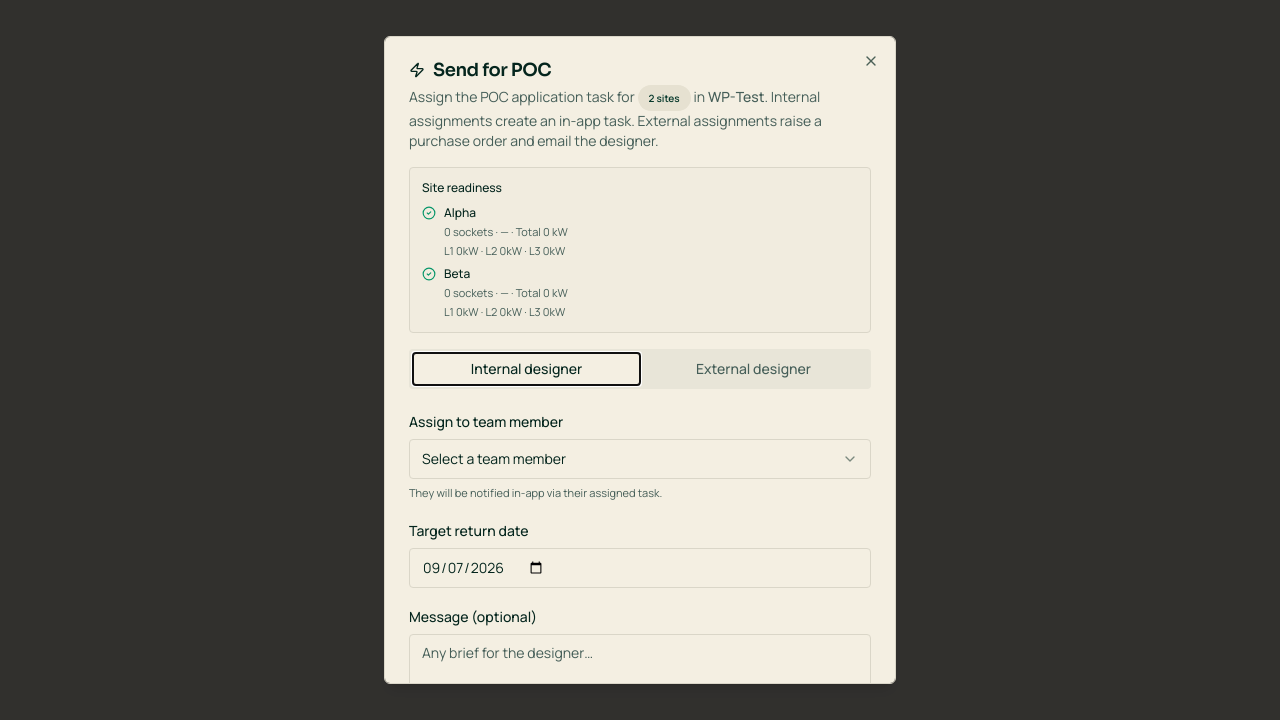
Test: SendForPocDialog › rejects zero/negative fee and blocks proceeding
The image size is (1280, 720).
Click the tab "External designer" at point(754, 369), box [640,353,867,385]
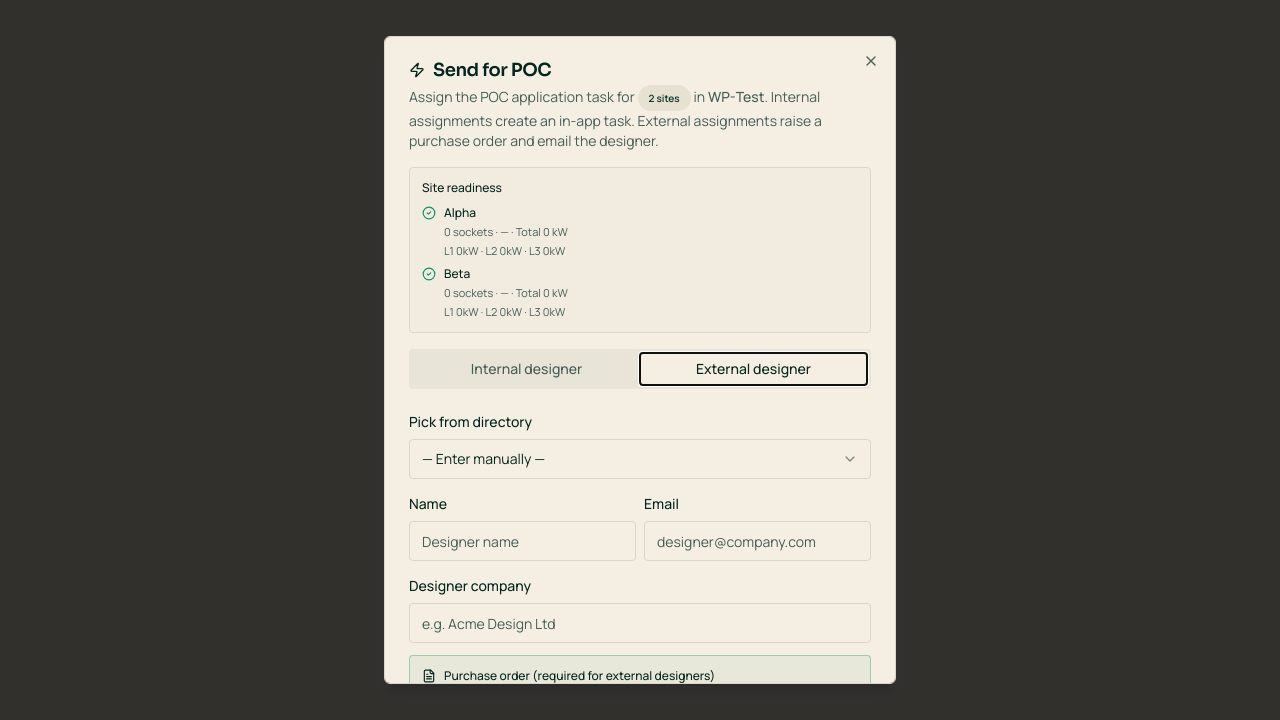
Type "d@x.com" into the field with placeholder "designer@company.com" at point(758, 541), box [644,521,871,561]
(page scrolled)
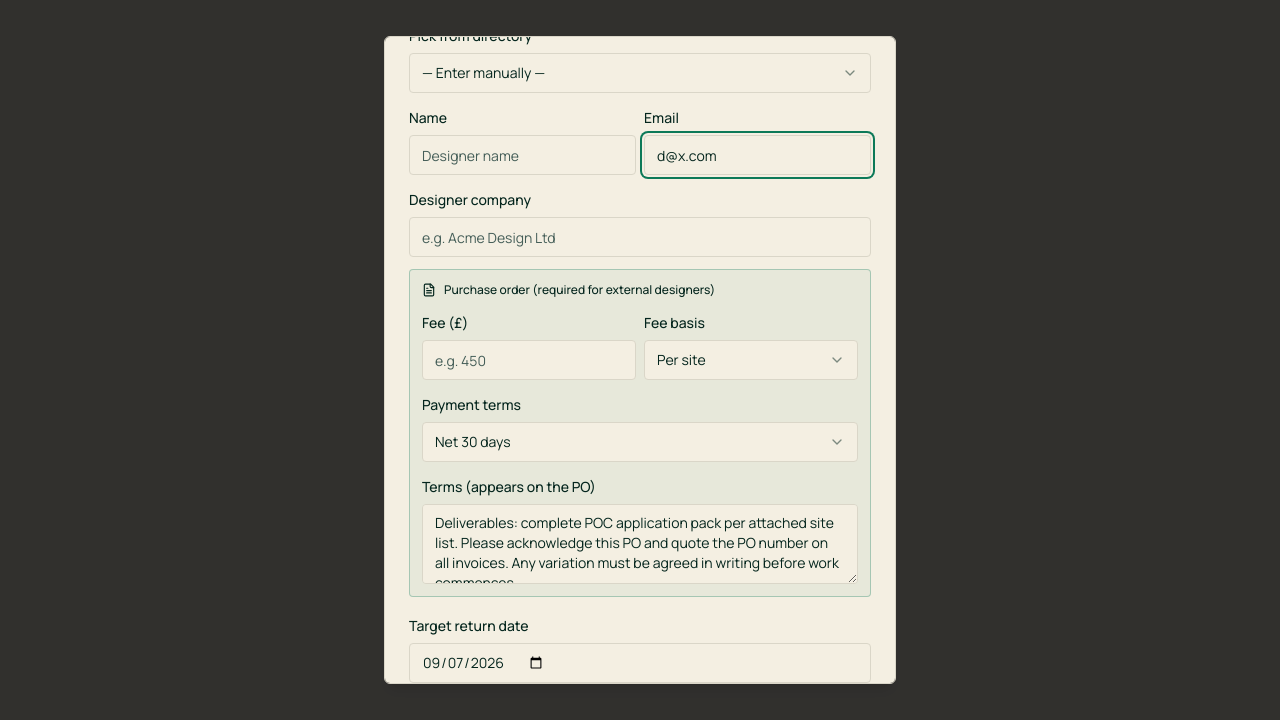
Type "0" into the number field with placeholder "e.g. 450" at point(529, 360), box [422,340,636,380]
(page scrolled)
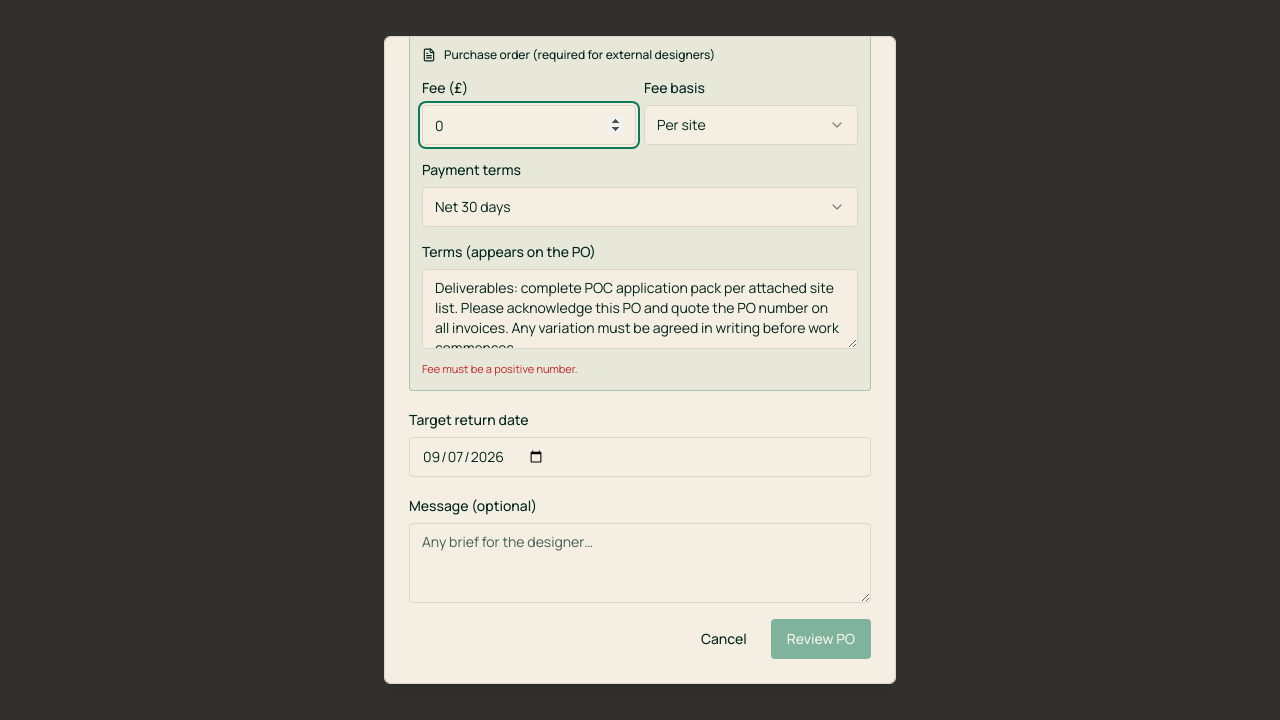
Now the text "Fee must be a positive number." is shown, box [422,361,578,376]
Now the button with test id "poc-next-btn" is disabled, box [771,618,871,658]
